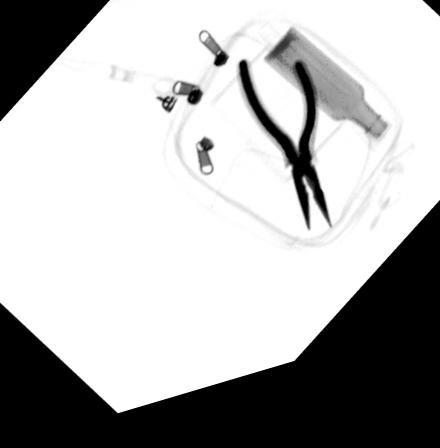Pliers: (235, 70, 333, 250)
